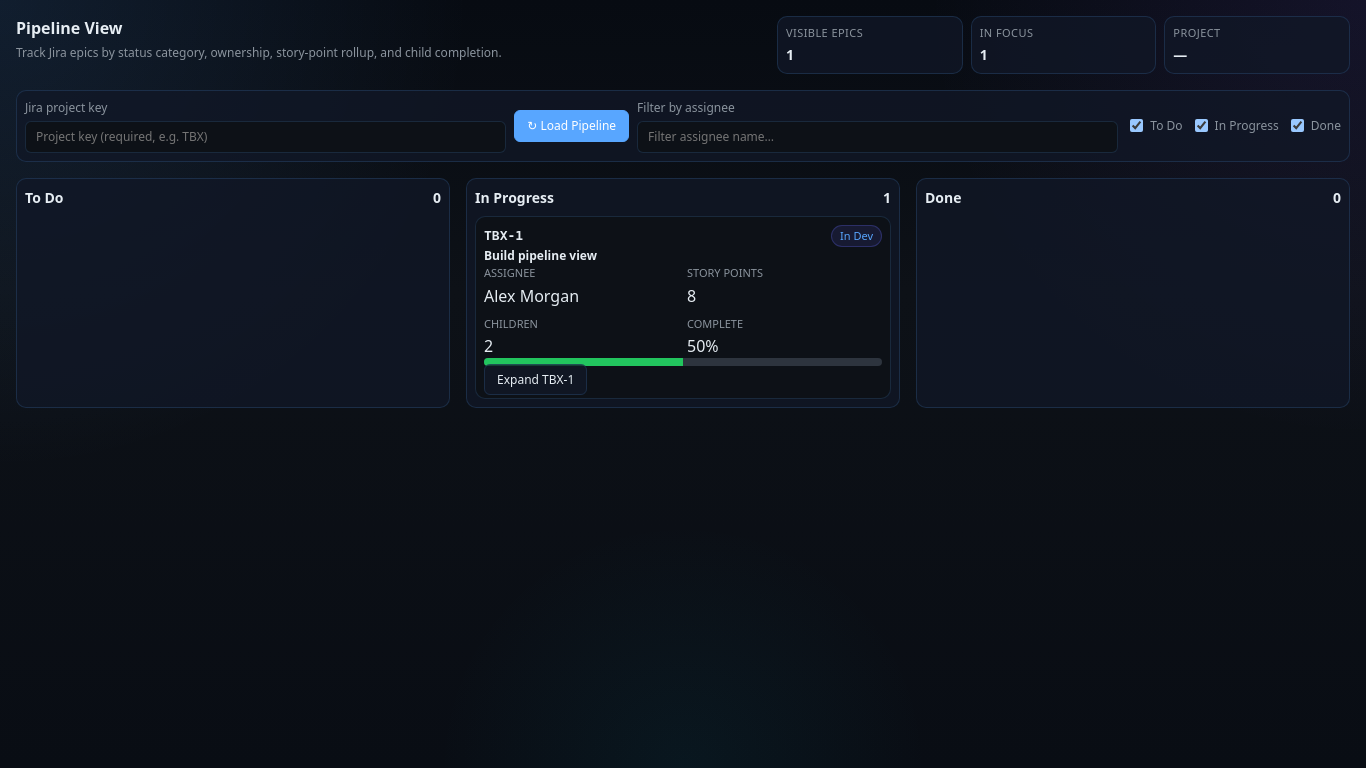
Test: PipelineView › expands a loaded epic and displays its child issue details
The image size is (1366, 768).
Click the button with aria-label "Expand TBX-1" at [504, 236], box [484,224,882,390]
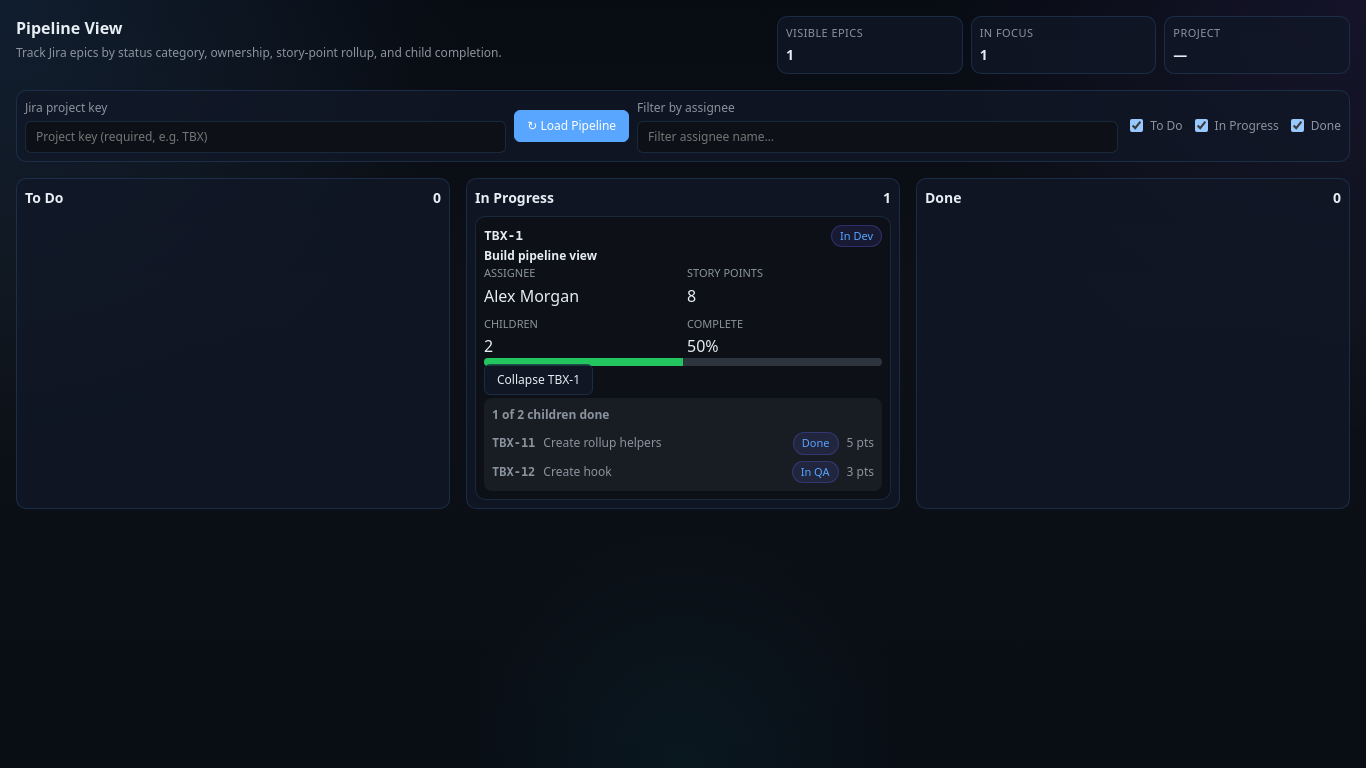
Expected: the text "1 of 2 children done" is shown, [492,406,610,423]
Expected: the text "TBX-11" is shown, [492,434,535,452]
Expected: the text "Create rollup helpers" is shown, [543,434,662,451]
